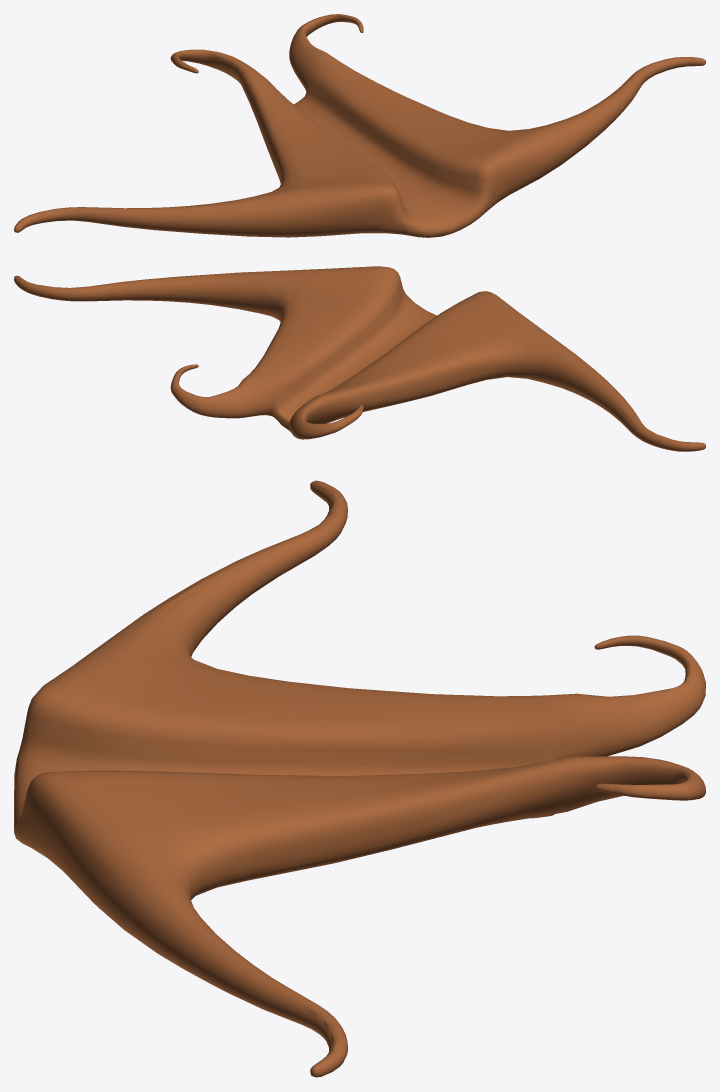
File: balestra.fbx
3 views of the same model, one above another, from view 1: azimuth 30°, elevation 25°; view 2: azimuth 150°, elevation 25°; view 3: azimuth 270°, elevation 25° (orthographic). The views are drawn at different scales.
Parts seen in each view (by area): view 1: Balestra; view 2: Balestra; view 3: Balestra.
Part boxes in pixels (bbox=[...]): Balestra: bbox=[14, 14, 705, 237]; Balestra: bbox=[14, 266, 705, 451]; Balestra: bbox=[14, 480, 705, 1077].
Size of the model in its own units: 5.62 by 0.529 by 2.79.
